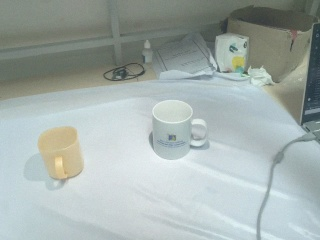bottle: (141, 40, 153, 69)
box: (224, 4, 317, 87), (214, 33, 250, 74)
cup: (149, 99, 210, 162), (37, 125, 85, 181)
